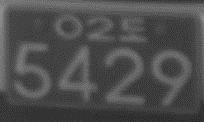0: (53, 13, 82, 40)
2: (102, 46, 146, 106), (85, 15, 117, 41)
4: (58, 43, 97, 103)
5: (13, 41, 52, 99)
9: (150, 47, 192, 107)
도: (119, 14, 147, 42)
